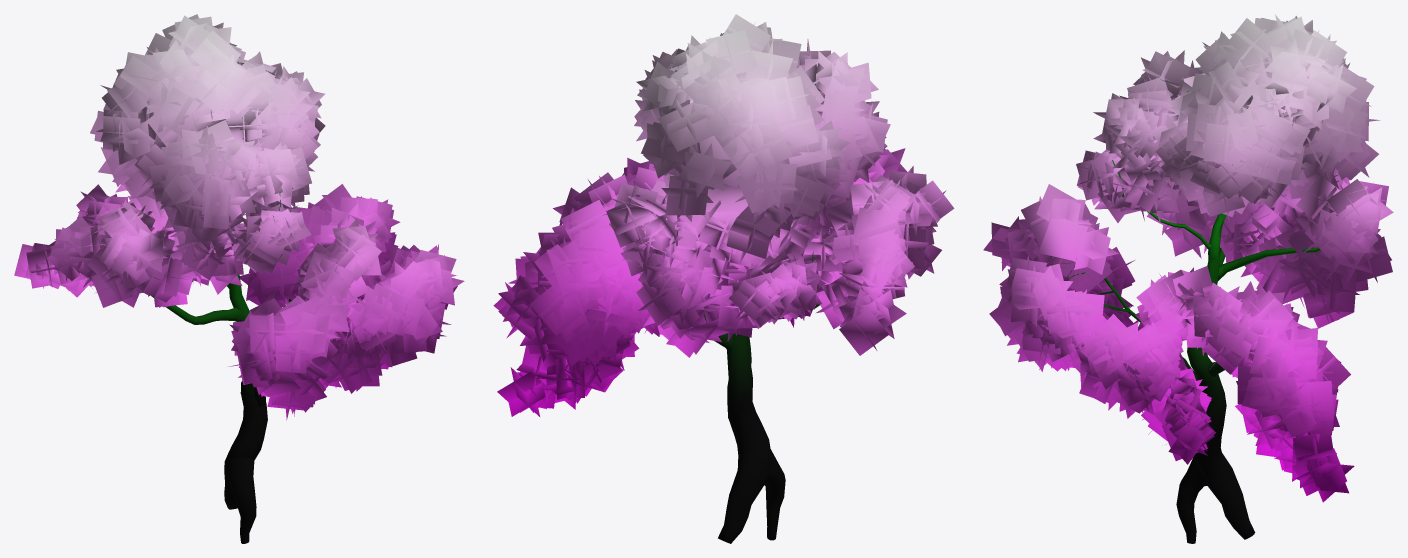
Rendered from TSI_Amberleaf_Tree_01A.fbx.
3 views of the same model, side by side, from view 1: azimuth 30°, elevation 25°; view 2: azimuth 150°, elevation 25°; view 3: azimuth 270°, elevation 25° (orthographic). The views are drawn at different scales.
Visible parts, largest first — view 1: TSI_Amberleaf_Tree_01A_LOD0; view 2: TSI_Amberleaf_Tree_01A_LOD0; view 3: TSI_Amberleaf_Tree_01A_LOD0.
Boxes of the visible parts, x1=… form: TSI_Amberleaf_Tree_01A_LOD0: x1=14, y1=14, x2=464, y2=543; TSI_Amberleaf_Tree_01A_LOD0: x1=493, y1=14, x2=954, y2=543; TSI_Amberleaf_Tree_01A_LOD0: x1=983, y1=14, x2=1393, y2=543.
Size of what is drawn, in the model's own units: 1785 by 2326 by 1656.
